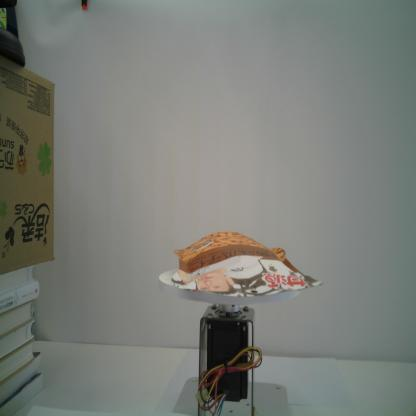Dried Fruit: (172, 232, 322, 298)
